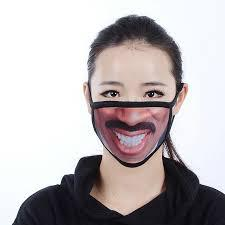OK: (90, 66, 175, 163)
